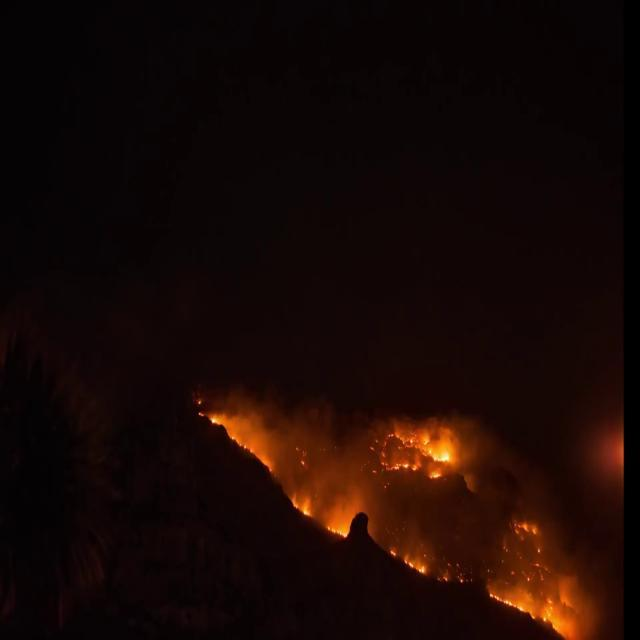Fire: (380, 428, 452, 480), (292, 497, 312, 517), (513, 518, 537, 534), (328, 520, 350, 536), (209, 414, 218, 424), (198, 411, 204, 417)
Smoke: (196, 387, 493, 533)
